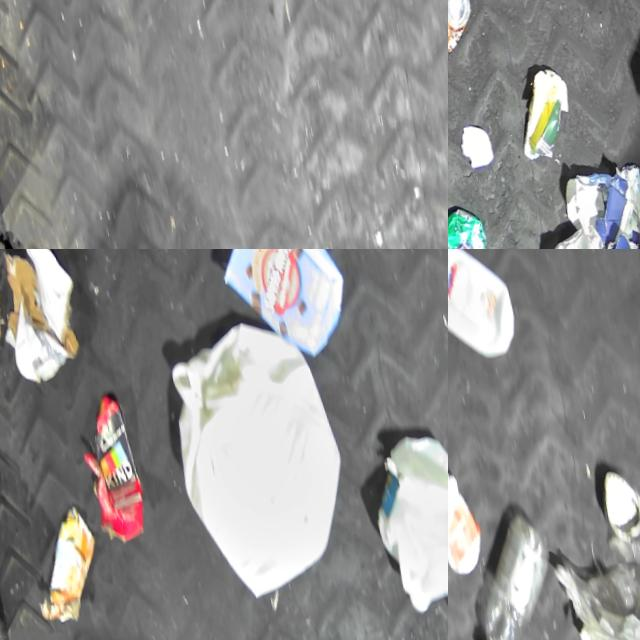can: (23, 502, 108, 640), (593, 470, 640, 557), (448, 208, 494, 249), (448, 0, 475, 66)
milk_jug: (154, 310, 357, 615), (358, 417, 448, 631), (448, 249, 519, 381)
plastic_bottle: (453, 511, 565, 640)
